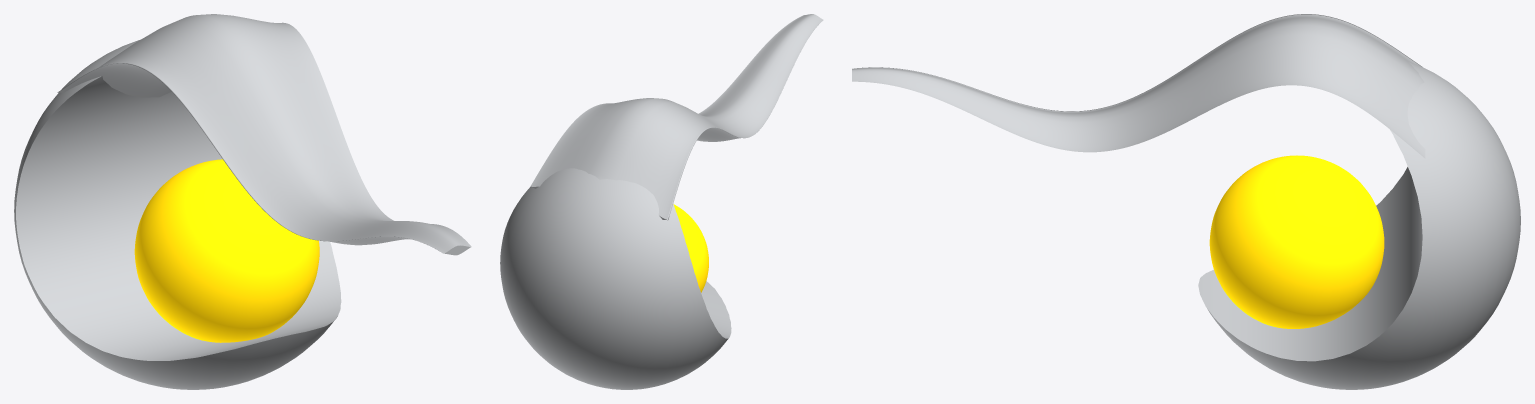
File: latvomy_1975_model.glb
3 views of the same model, side by side, from view 1: azimuth 30°, elevation 25°; view 2: azimuth 150°, elevation 25°; view 3: azimuth 270°, elevation 25° (orthographic). The views are drawn at different scales.
Size of the model in its own units: 11.7 by 14.1 by 24.5.
